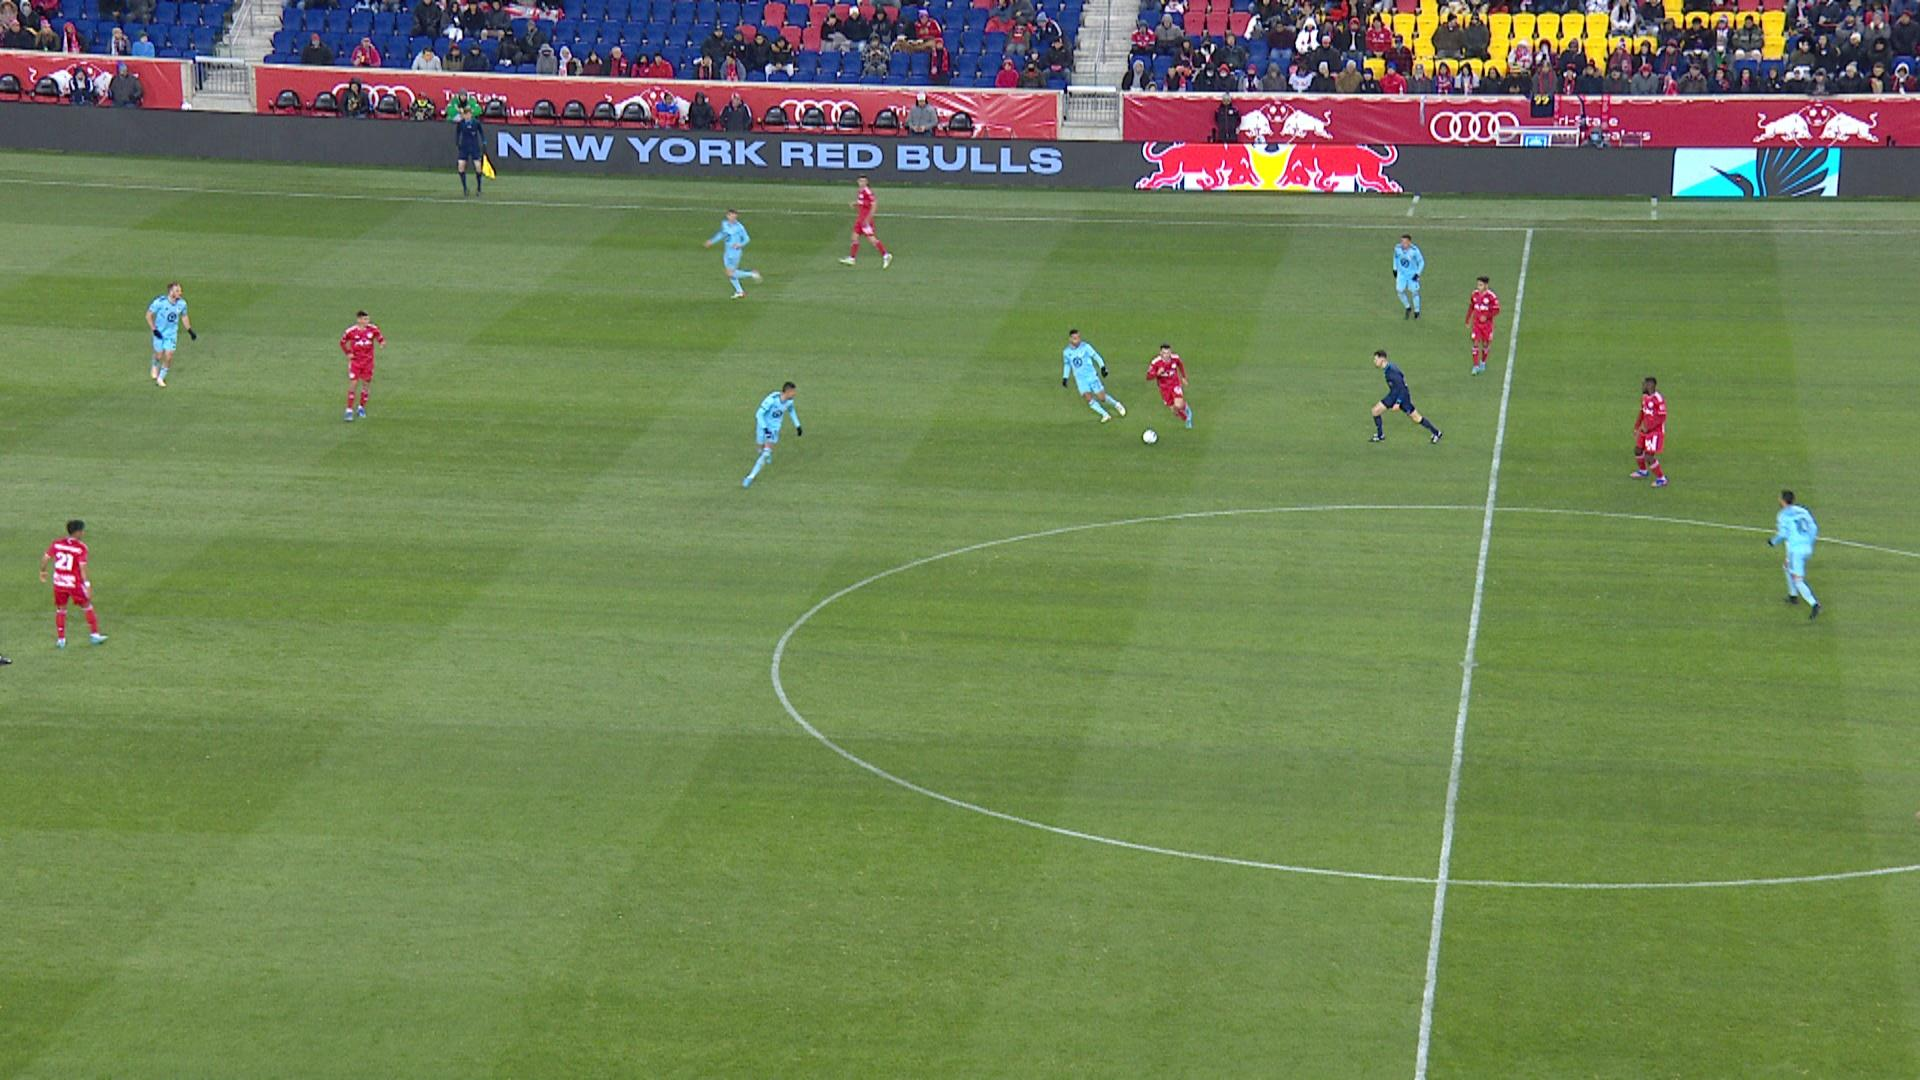football: (1141, 427, 1159, 446)
